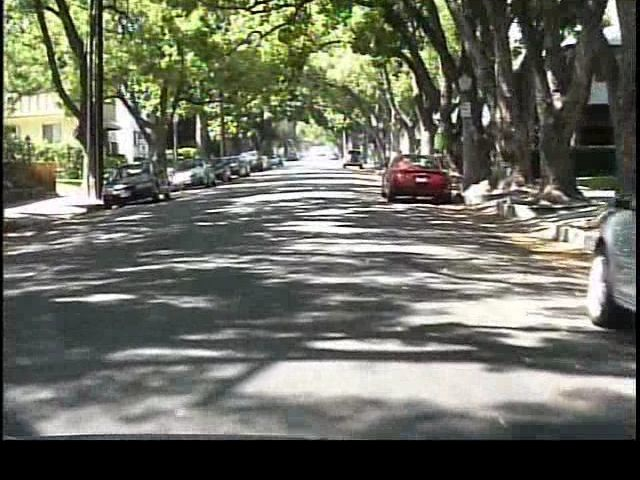person: (147, 145, 167, 187)
